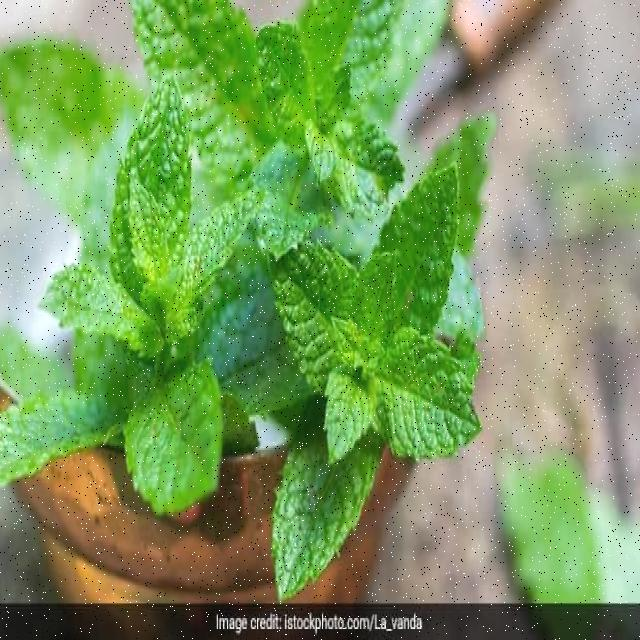Green Mint: (10, 8, 235, 559), (256, 161, 489, 554)
